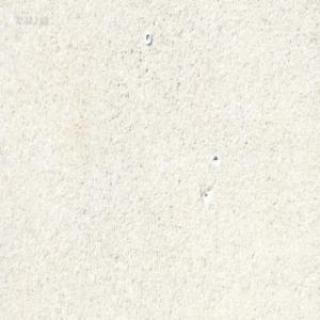Washertrack_idkeyframe: (143, 30, 151, 44)
